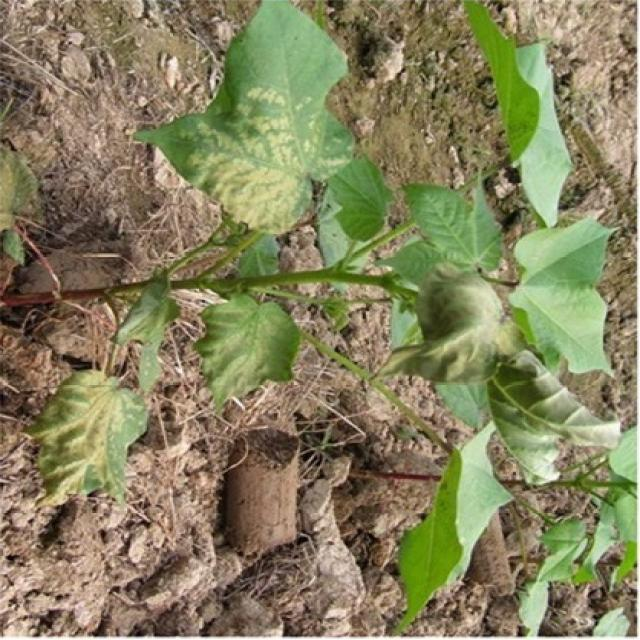Fusarium Wilt: (3, 5, 629, 640)
